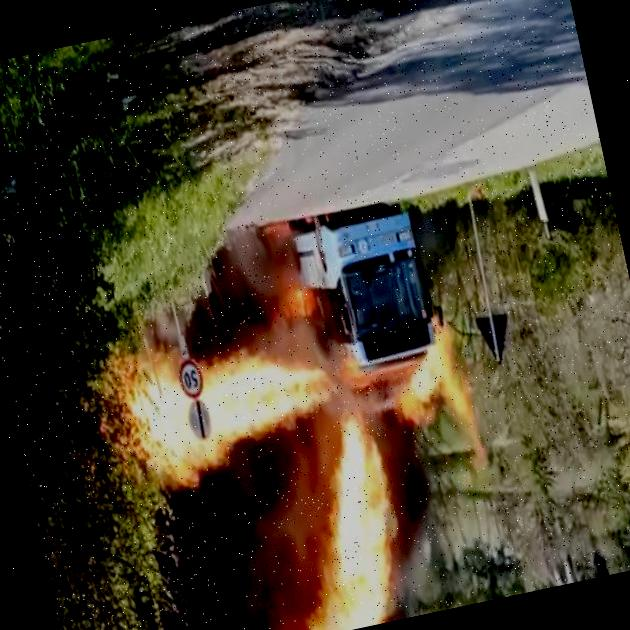smoke: (119, 447, 356, 630), (175, 219, 314, 336)
